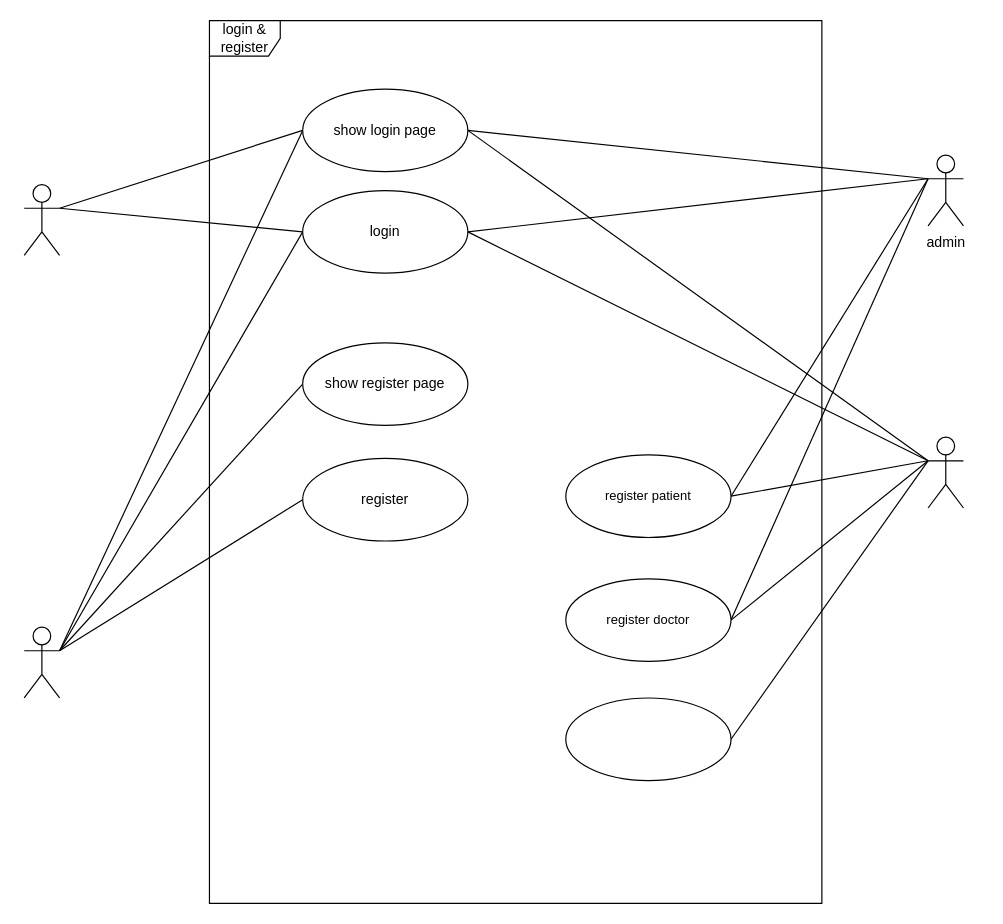
This 1003x924 diagram has some shape labels left out. Here are the shapes that lost their labels. From the top down, the centre of each, then its label:
At (x=41, y=219): "doctor".
At (x=945, y=472): "administrator".
At (x=41, y=662): "patient".
At (x=648, y=739): "register admin".
